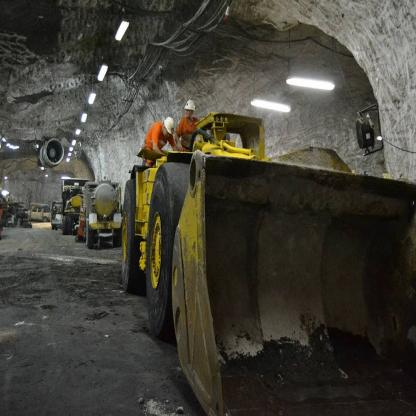bull_dozer/loader/grader: (121, 97, 416, 412)
person: (138, 110, 178, 167), (174, 94, 200, 153)
